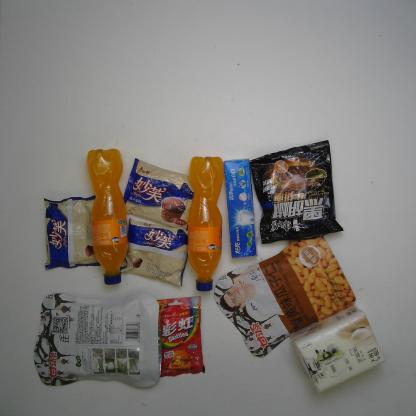Candy: (155, 294, 207, 378)
Dessert: (122, 156, 197, 232), (118, 216, 191, 289), (41, 193, 106, 271)
Dried Fruit: (212, 234, 356, 358), (32, 291, 162, 390)
Drink: (86, 147, 130, 287), (186, 155, 225, 293)
Instant Noodles: (247, 139, 344, 245)
Personal Hygiene: (223, 157, 259, 260)
Tissue: (287, 302, 387, 396)
